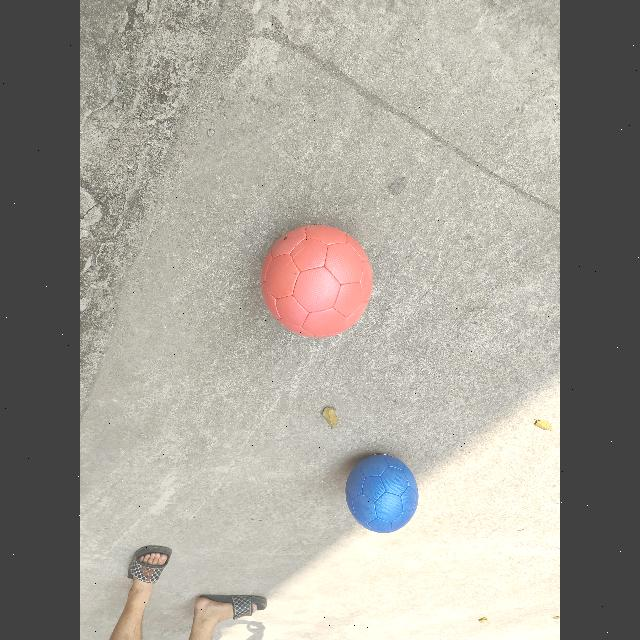B: (345, 455, 418, 534)
R: (261, 225, 373, 338)
